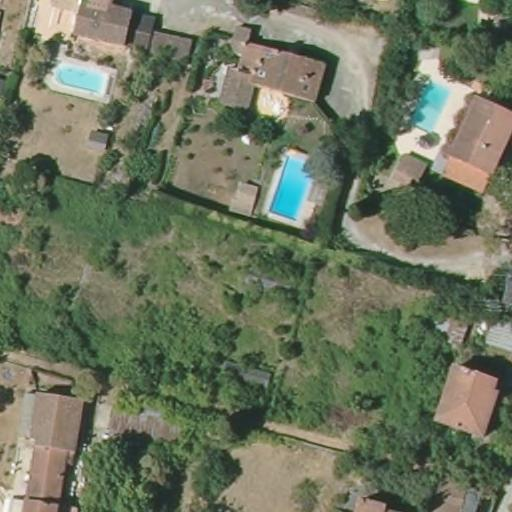pool: (263, 147, 324, 226), (44, 52, 118, 100), (401, 78, 456, 136)
